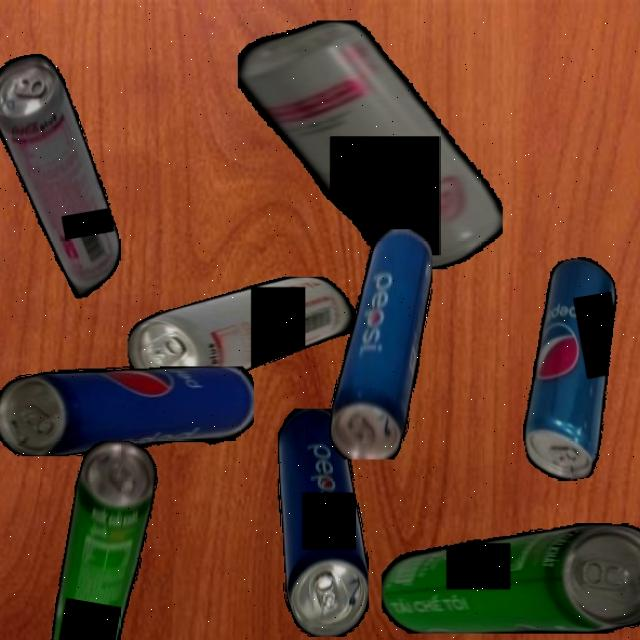debris: (237, 21, 502, 269), (495, 253, 640, 486), (0, 44, 128, 307), (380, 523, 640, 633), (128, 276, 364, 394), (42, 434, 163, 640), (328, 228, 432, 460), (0, 366, 254, 456), (276, 408, 368, 636)
